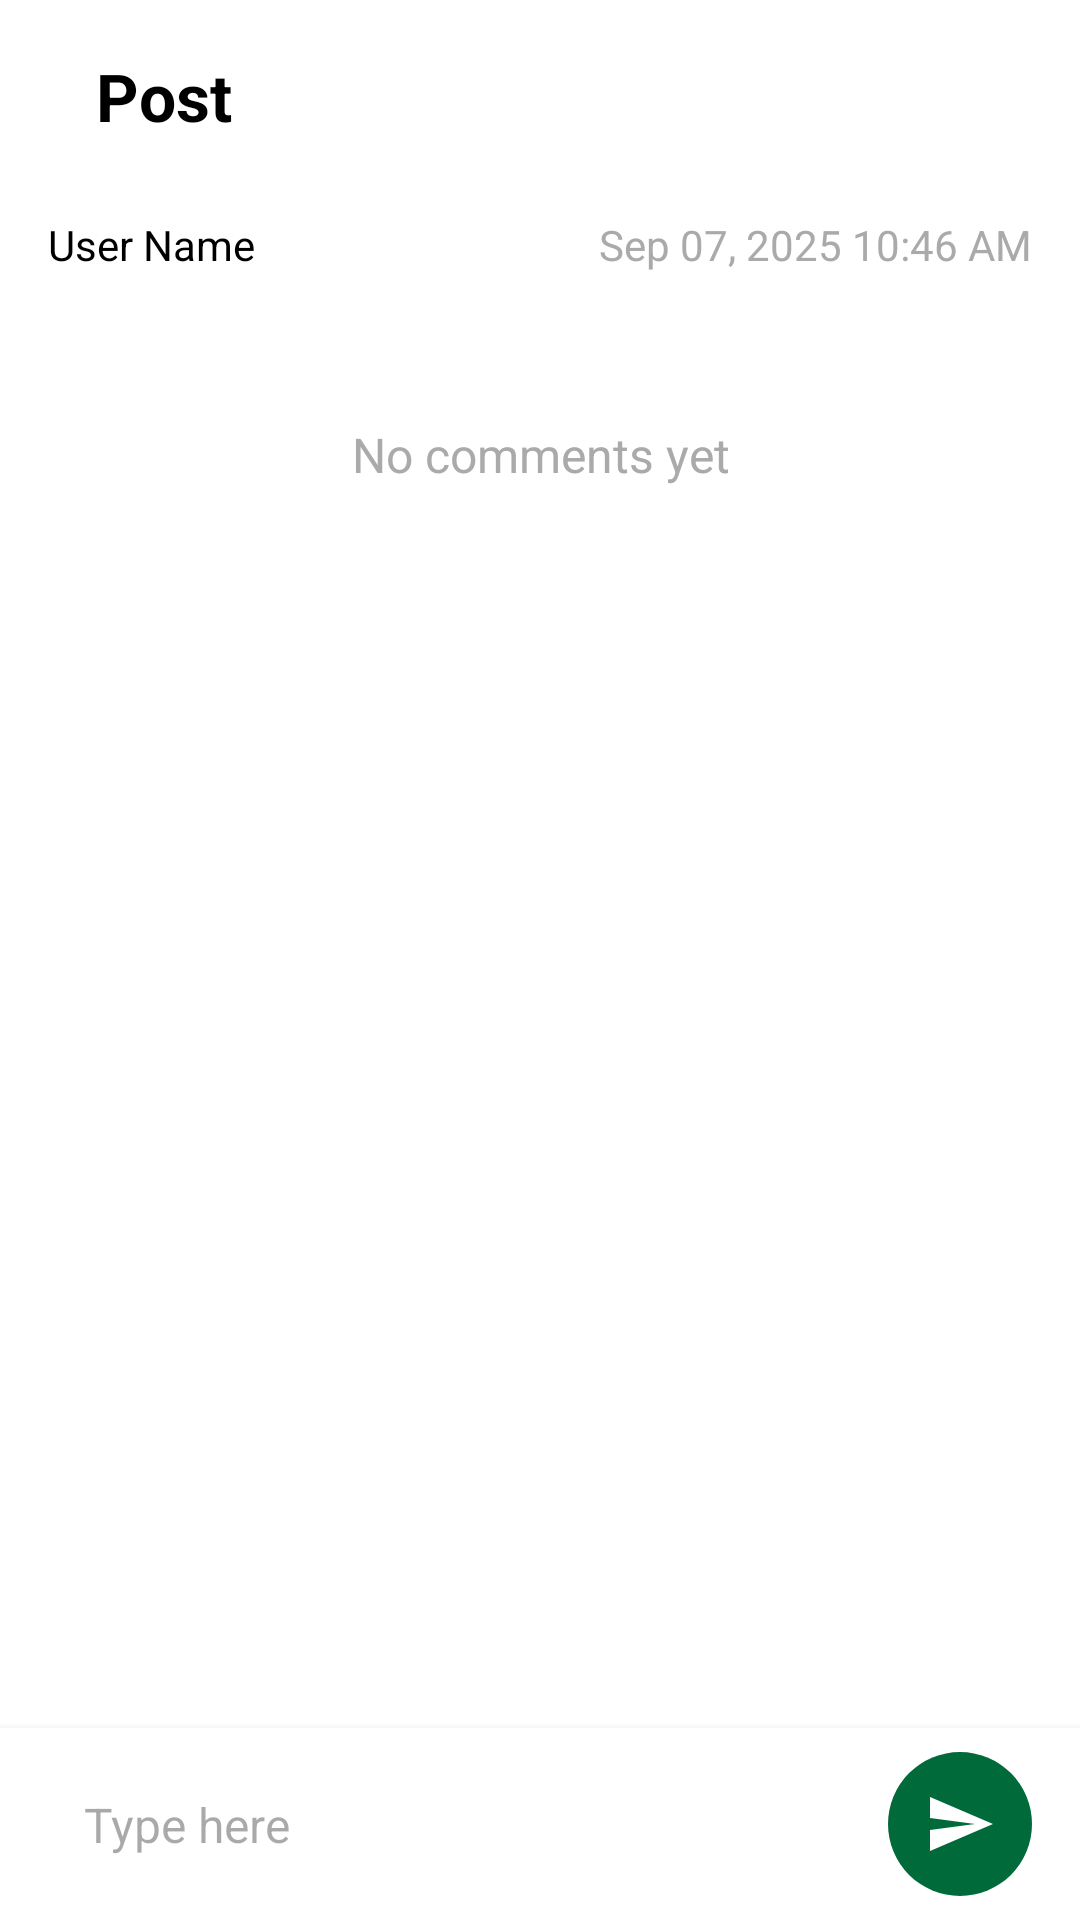

Locate icon controls on the screen. Image size 1080px x 1920px, boxes as detection(x1, y1, x2, y2).
Send Comment: detection(888, 1752, 1032, 1896)
